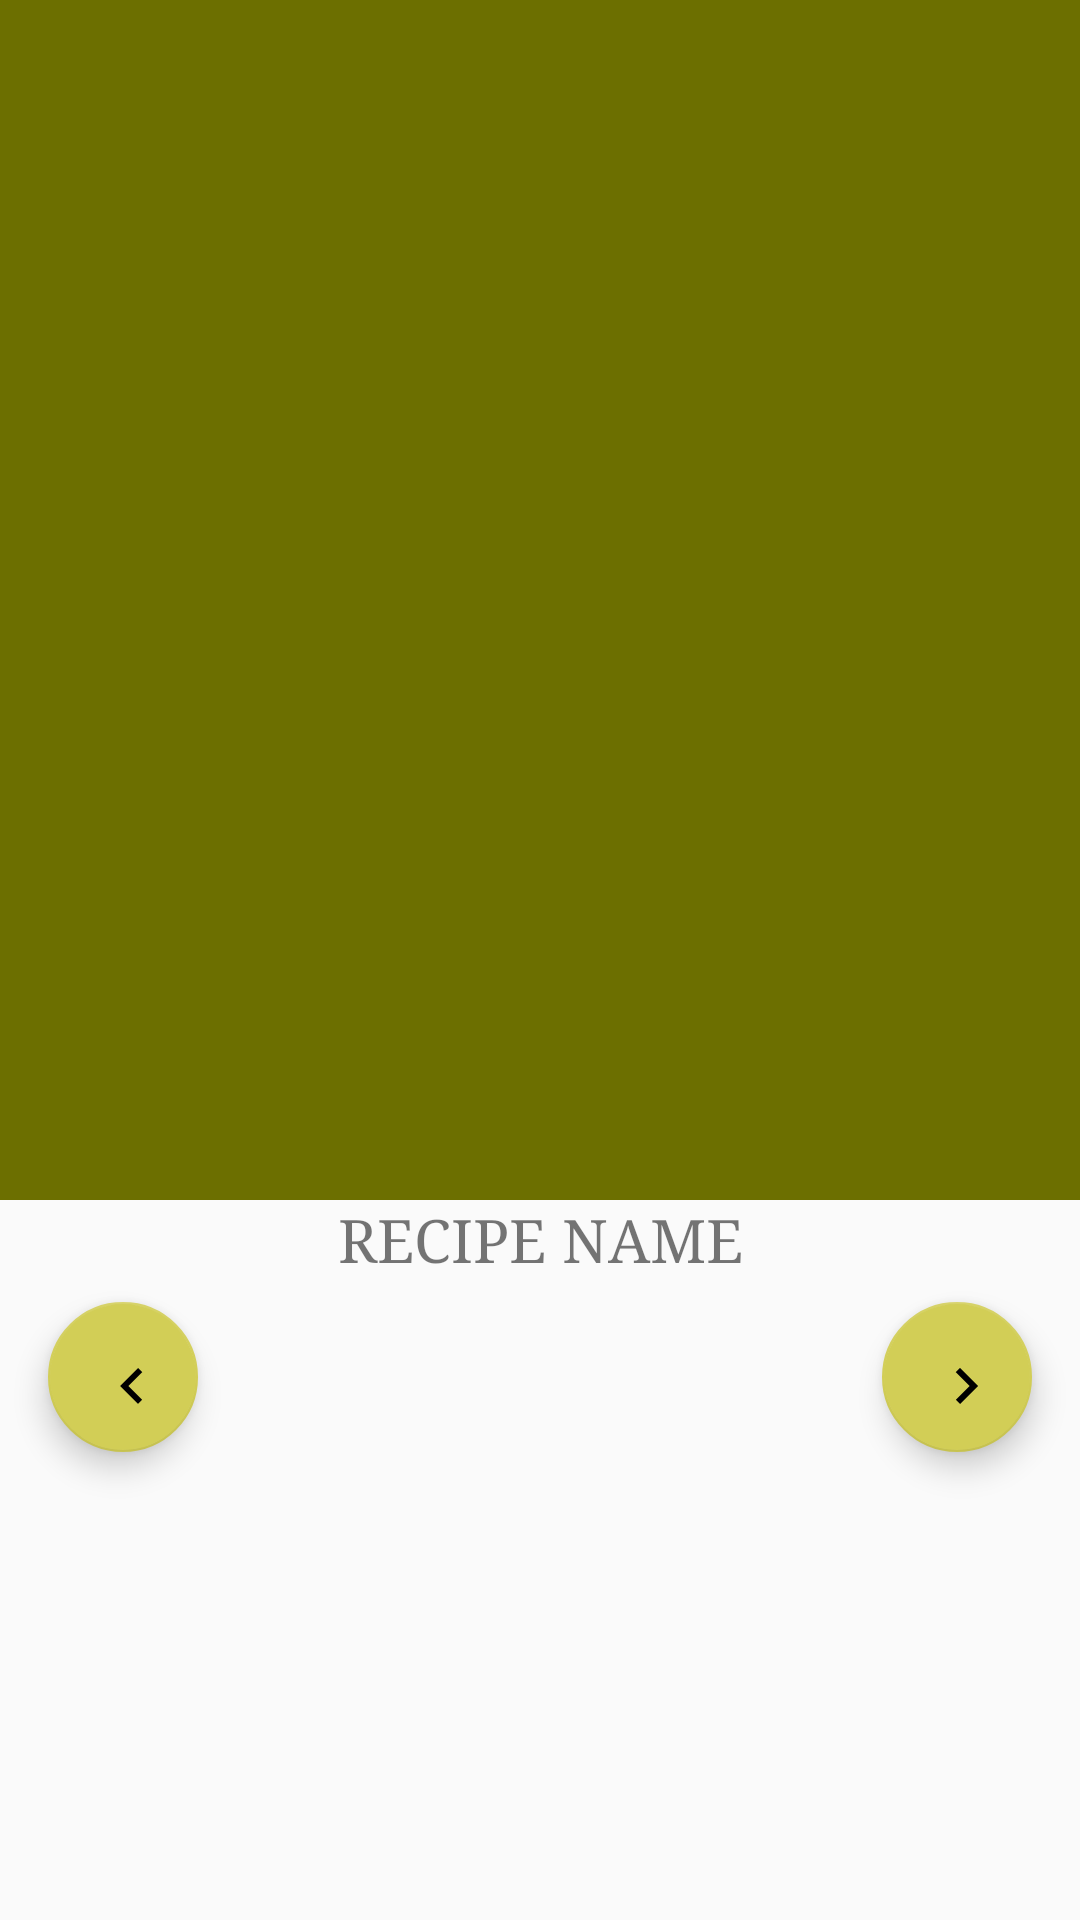

Where icons sit on this 1080x1920 app screen, as (x1,y1,x2,y2):
arrow left: (48,1302,198,1452)
arrow right: (882,1302,1032,1452)
